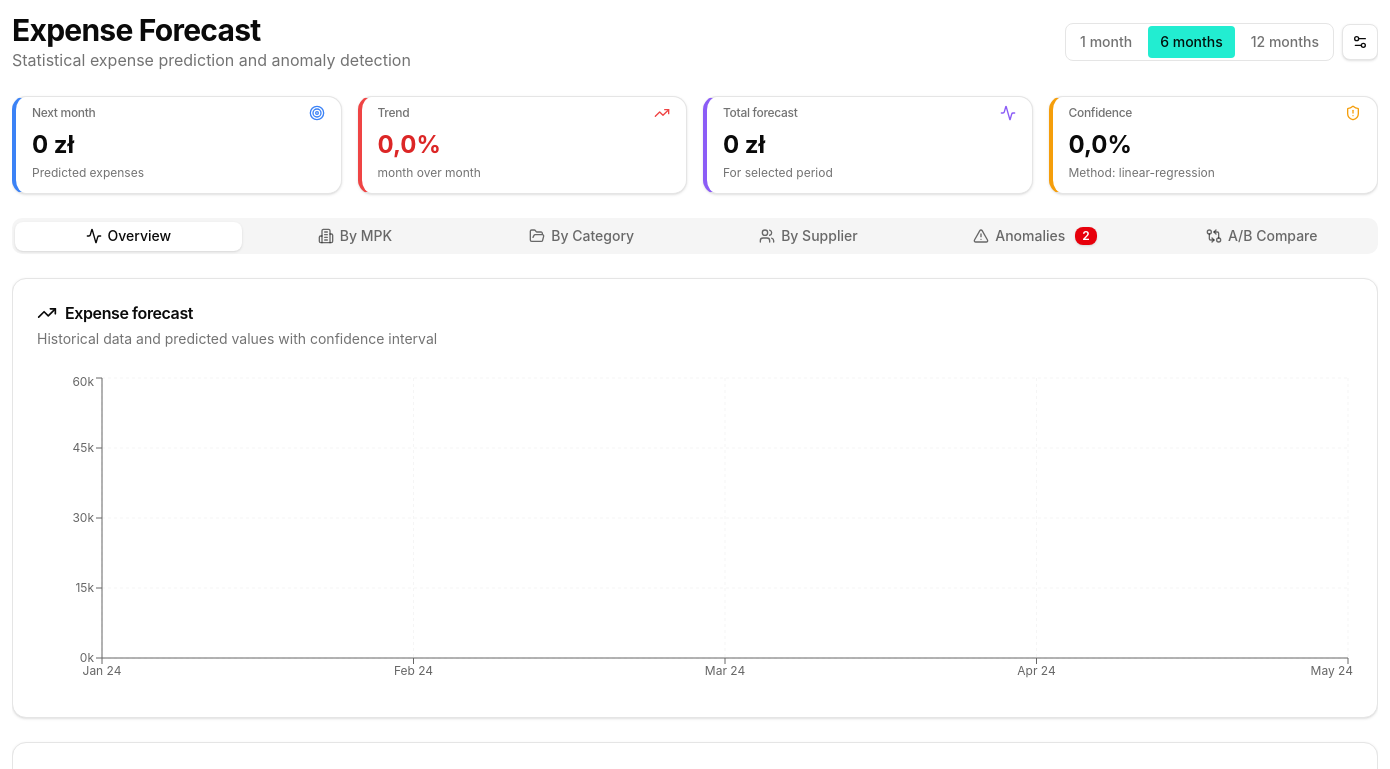
Test: ForecastPage › switches to anomalies tab and shows anomaly list
Click the tab "Anomalies 2" at (1035,236), box [922,222,1148,250]
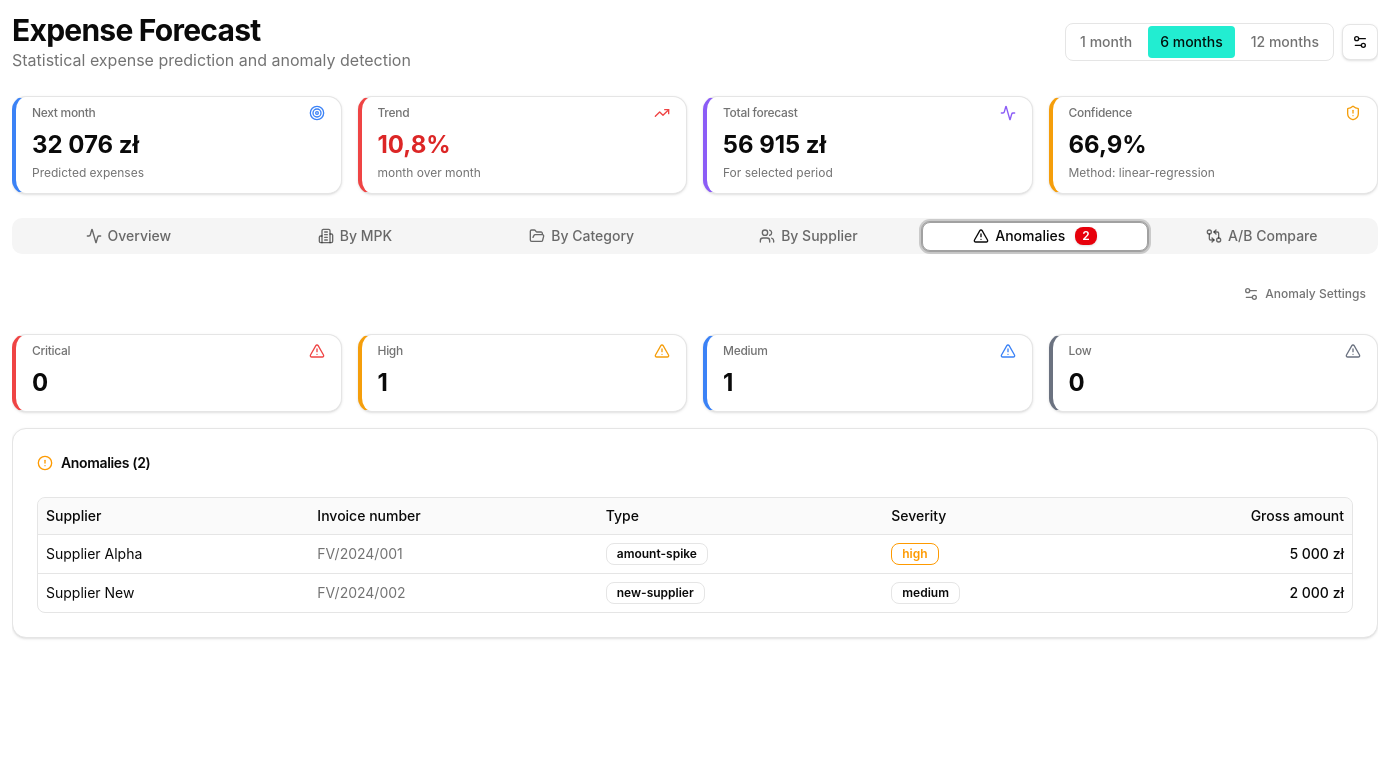
Result: the text "Supplier Alpha" is shown at [38,534,309,574]
Result: the text "FV/2024/001" is shown at [309,534,598,574]
Result: the text "amount-spike" is shown at [606,543,708,565]
